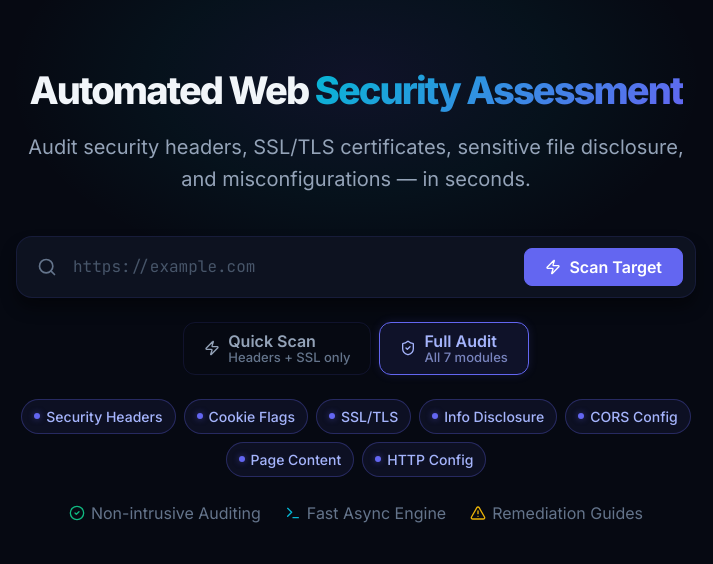
Test: ScanPage › clears the error as soon as the user types
Click the button "Scan Target" at (604, 267), box x1=524 y1=248 x2=683 y2=286
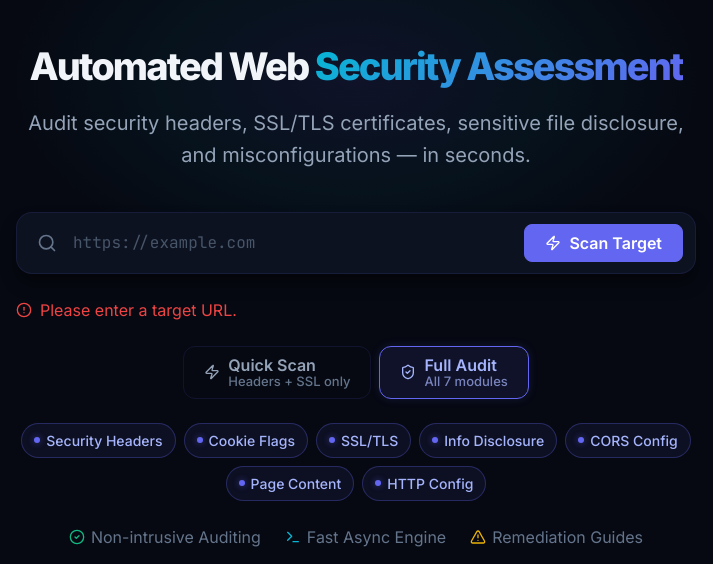
Check: the text "Please enter a target URL." is shown, box x1=16 y1=300 x2=237 y2=320
Type "a" into the field with placeholder "https://example.com" at (291, 243), box x1=65 y1=221 x2=516 y2=265
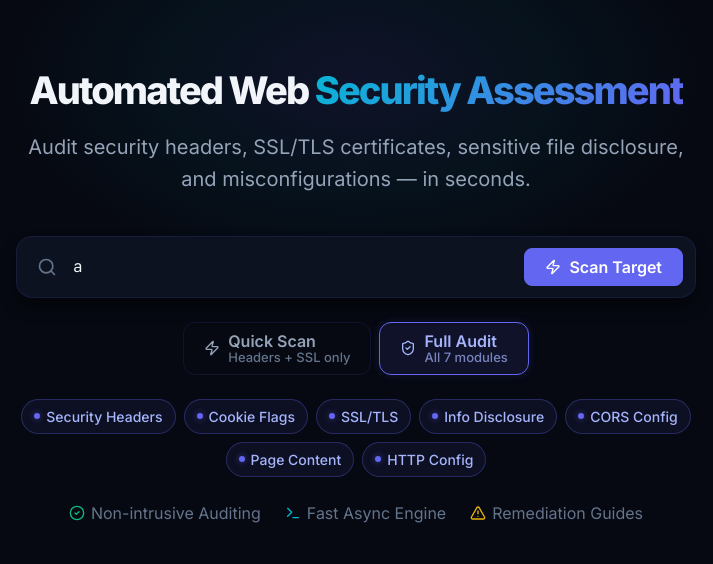
Check: the text "Please enter a target URL." is gone
